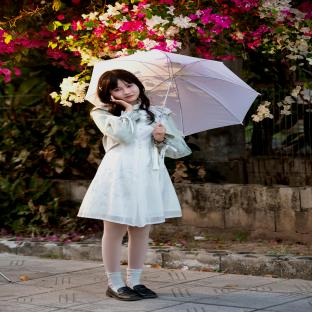Human: (79, 69, 191, 301)
